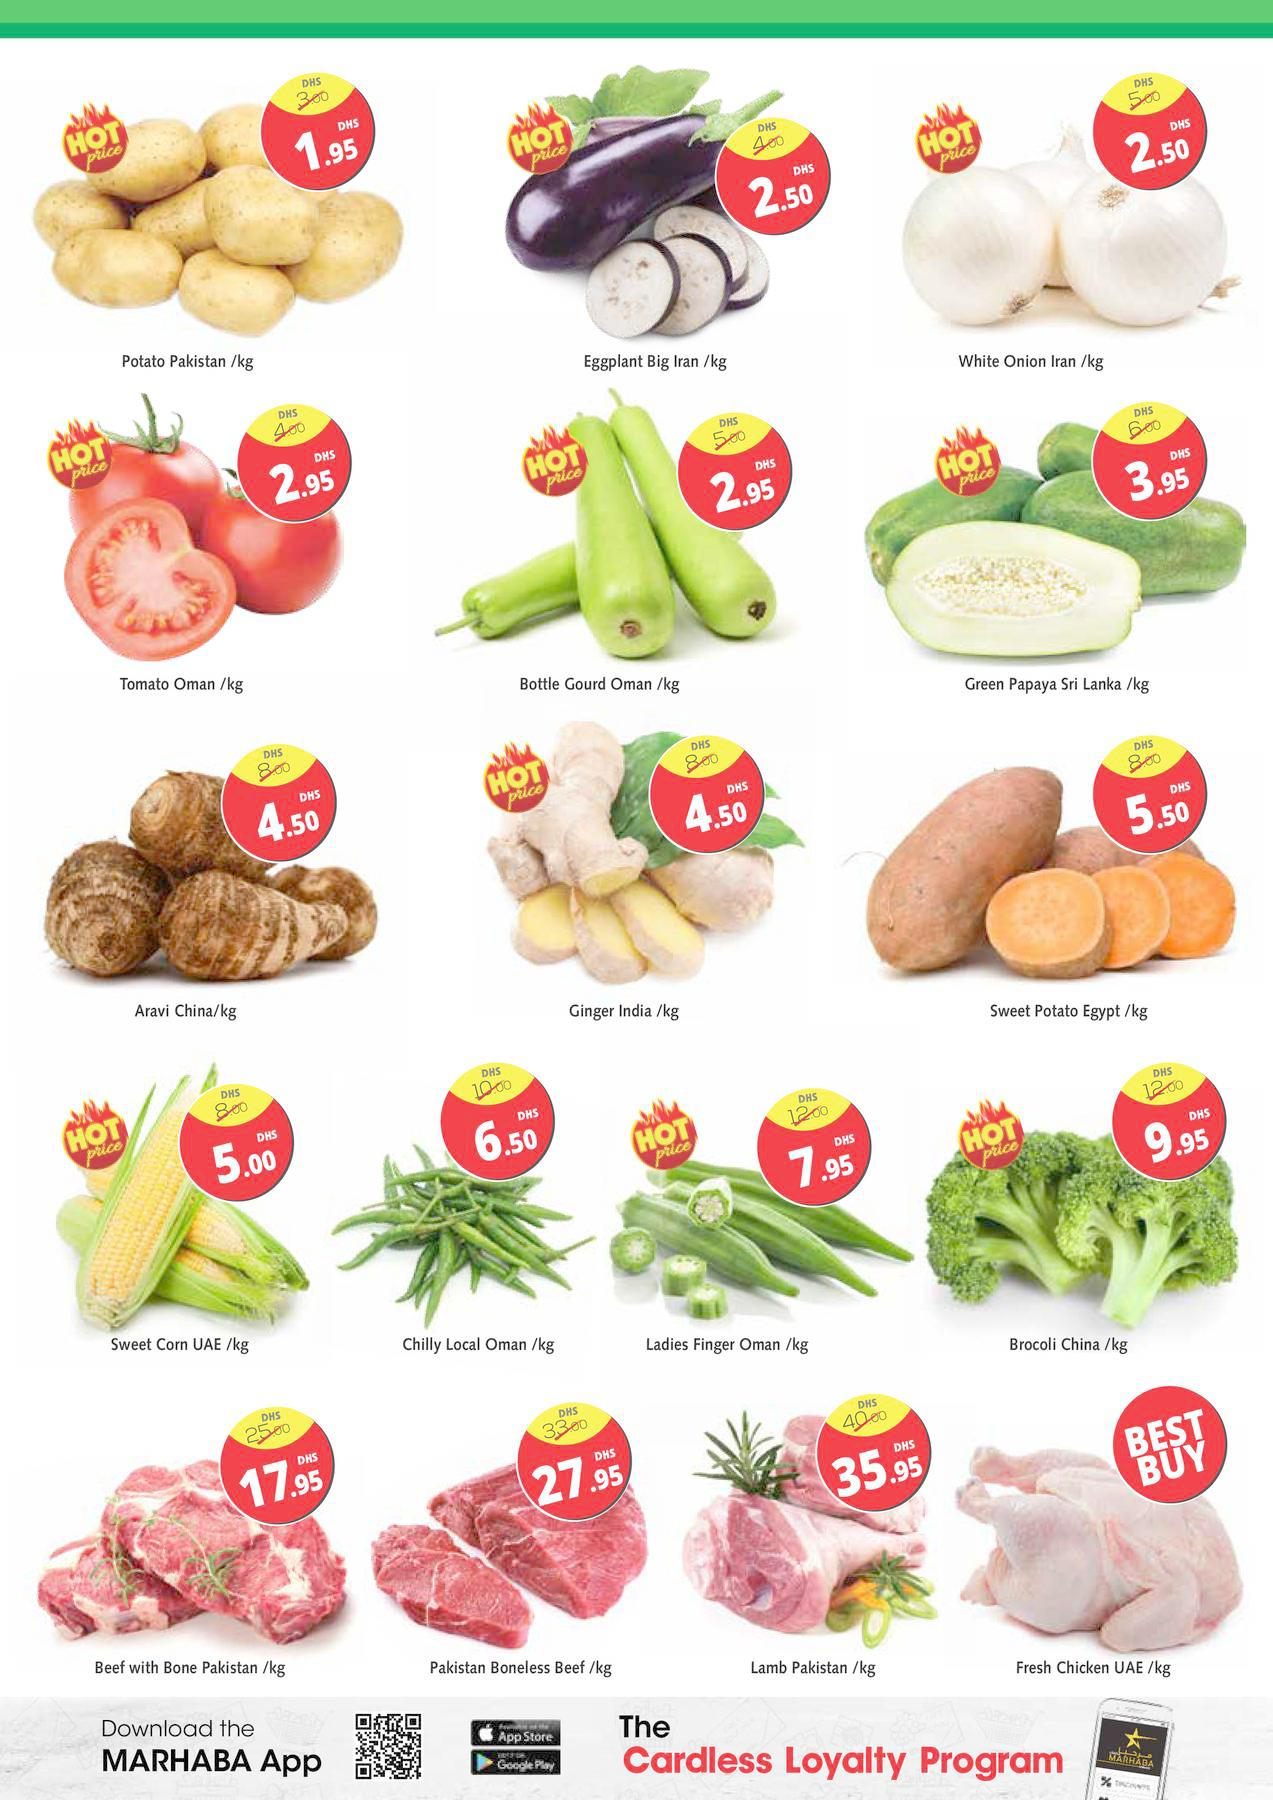text: (636, 1326, 822, 1365), (393, 1328, 570, 1368), (955, 669, 1156, 702), (982, 994, 1160, 1030), (423, 1654, 621, 1686), (510, 667, 690, 701), (101, 1329, 262, 1365), (577, 346, 737, 381), (995, 1328, 1141, 1365), (1008, 1654, 1182, 1684), (743, 1653, 887, 1687), (951, 348, 1113, 379), (558, 994, 687, 1030), (116, 348, 260, 380), (109, 669, 253, 701), (128, 998, 245, 1027)
